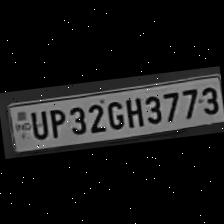2: (84, 100, 107, 134)
3: (140, 90, 164, 126), (196, 82, 220, 116), (65, 102, 88, 137)
7: (176, 85, 200, 120), (158, 88, 181, 122)
G: (102, 96, 124, 132)
H: (120, 94, 144, 128)
P: (43, 104, 66, 140)
U: (26, 106, 48, 140)
